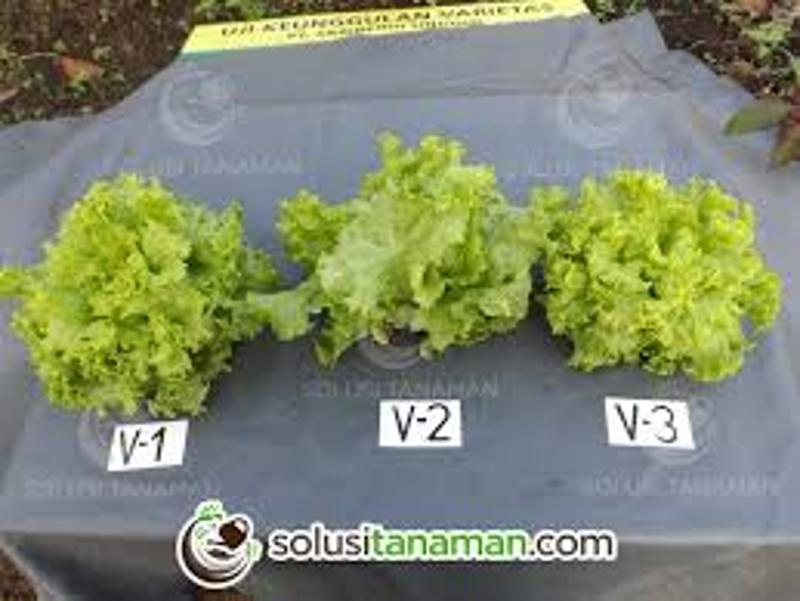green lettuce: (28, 174, 273, 419), (277, 132, 537, 353), (544, 152, 782, 385)
